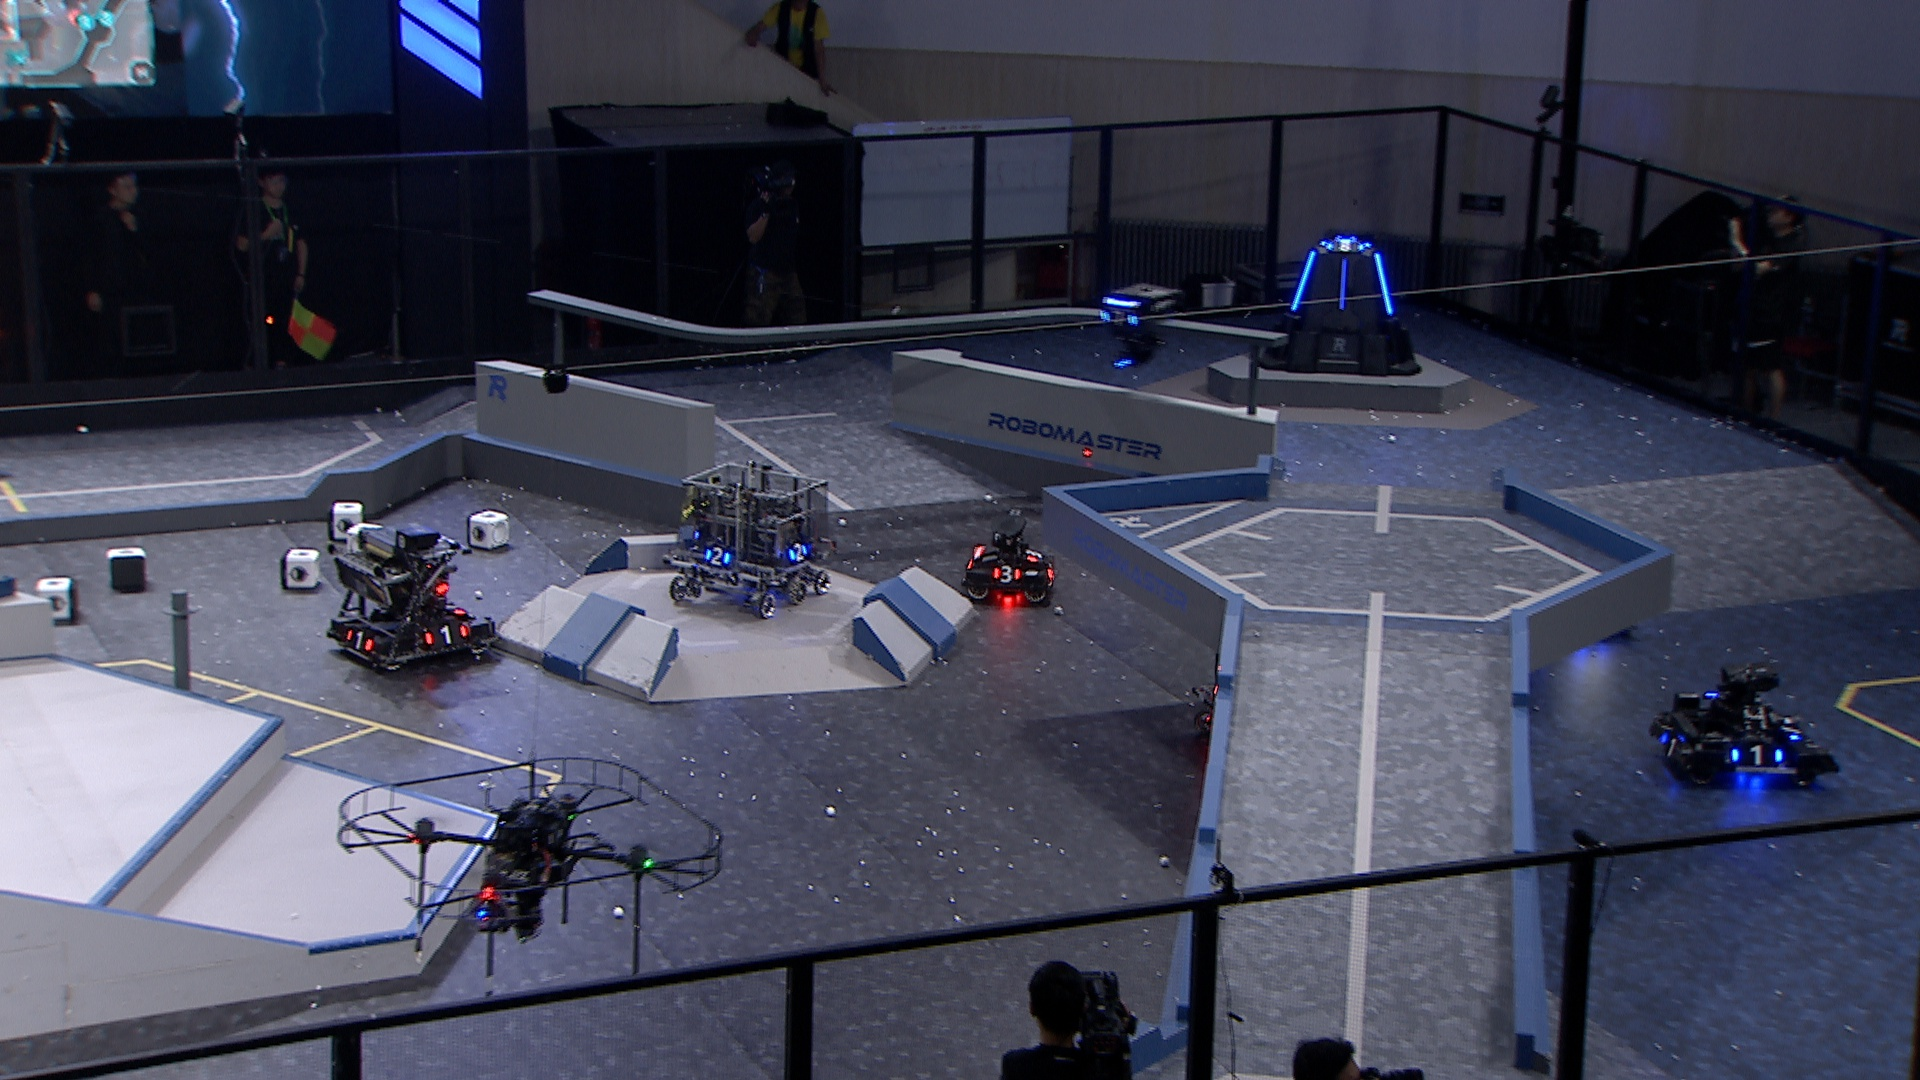armor: (1370, 249, 1399, 318), (1290, 251, 1319, 314), (1727, 742, 1787, 769), (419, 622, 468, 646), (702, 545, 735, 570), (1335, 258, 1349, 315), (1098, 310, 1139, 330), (343, 628, 376, 651), (988, 564, 1025, 584), (1655, 732, 1681, 760), (1327, 239, 1367, 255), (1779, 717, 1804, 741), (785, 542, 808, 562), (1021, 547, 1046, 564), (442, 603, 465, 615)
base: (1247, 229, 1427, 376)
car: (657, 462, 839, 616), (320, 522, 500, 678), (1643, 654, 1840, 790), (963, 520, 1059, 607)
watcher: (1092, 281, 1189, 371)
